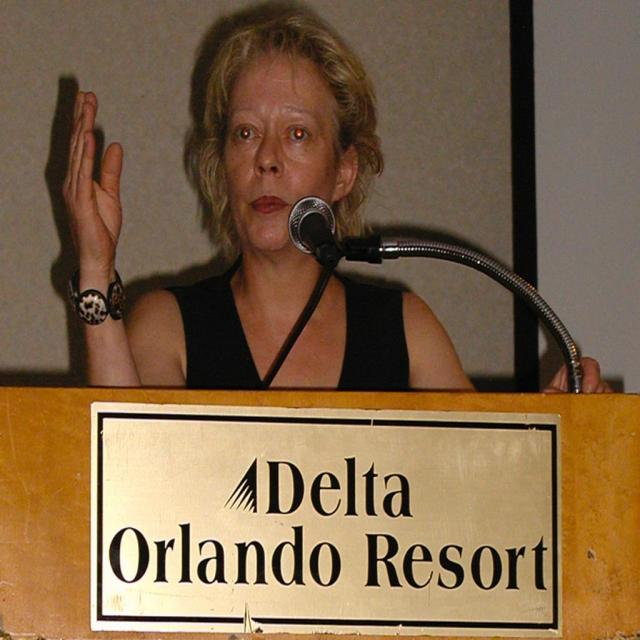nomask: (232, 48, 336, 252)
